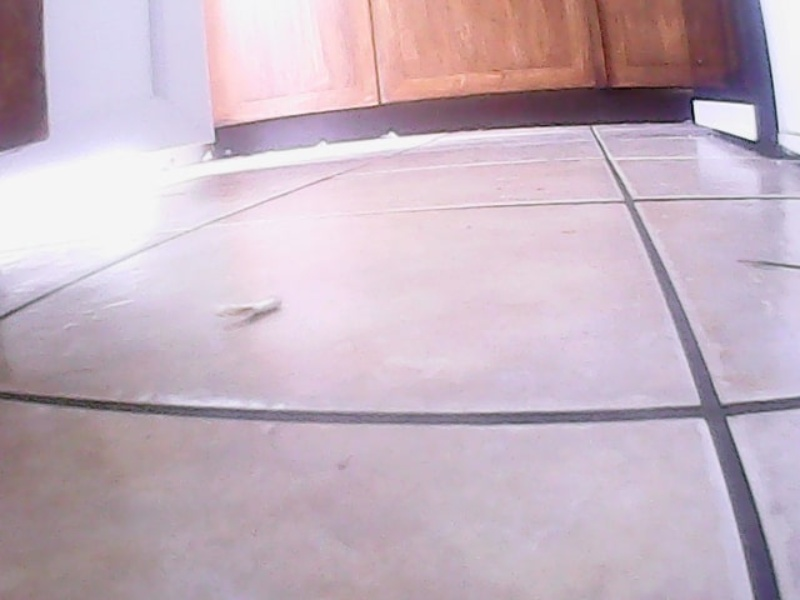cig: (221, 296, 286, 324)
